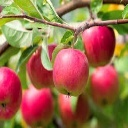apple: (52, 46, 90, 99)
